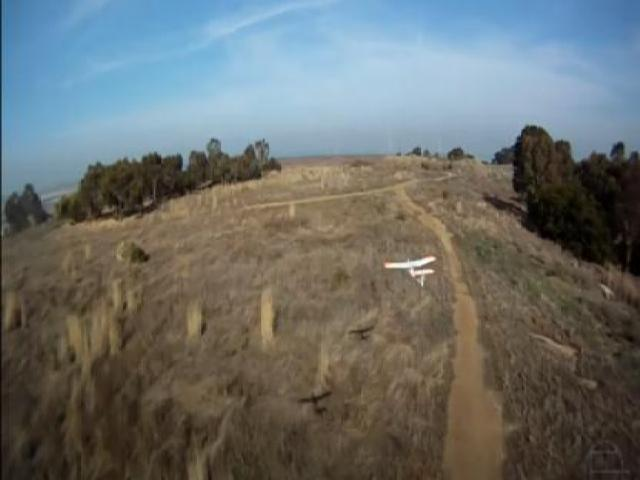uav: (380, 248, 438, 292)
